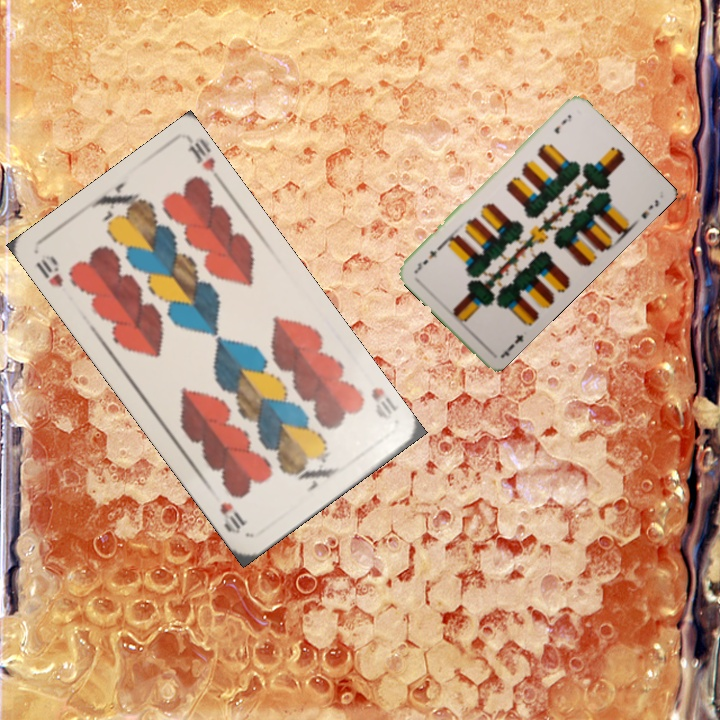E7: (497, 330, 526, 360), (550, 111, 574, 136)
H10: (31, 250, 66, 290), (367, 383, 399, 423)
